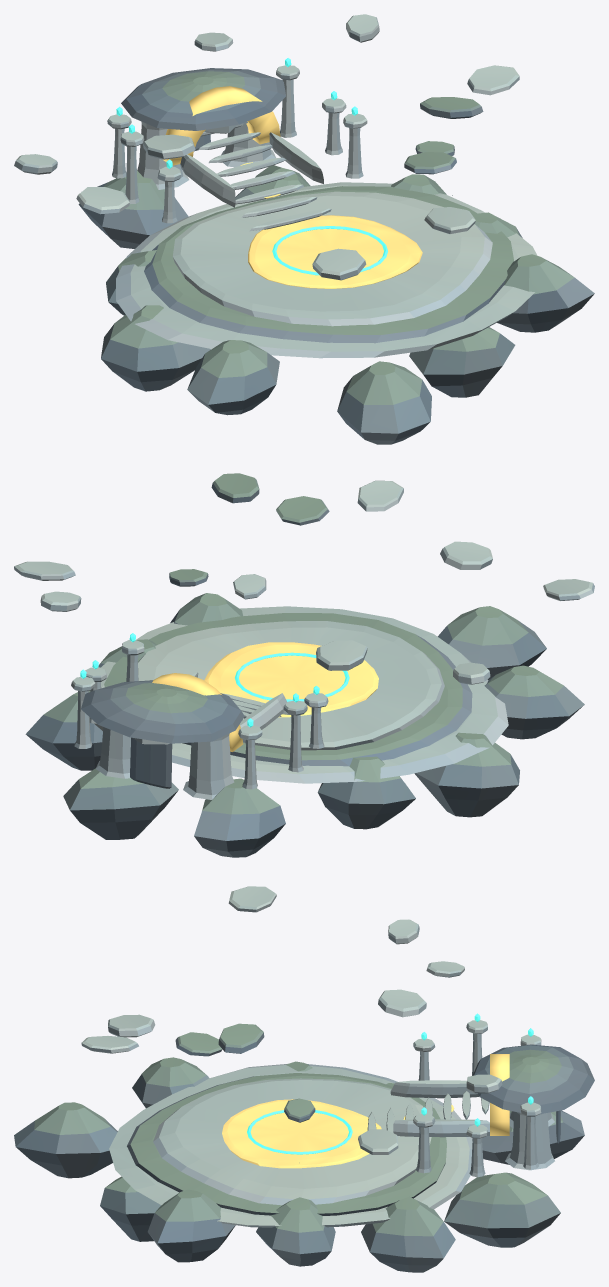
The model's file is cloud-ruins-low.glb.
The picture shows the model from 3 angles, top to bottom: view 1: azimuth 30°, elevation 25°; view 2: azimuth 150°, elevation 25°; view 3: azimuth 270°, elevation 25°; orthographic projection. The views are drawn at different scales.
Parts seen in each view (by area): view 1: CloudTemple, FloatingSlabs, LandingPad, TempleSteps, RunePillars; view 2: CloudTemple, FloatingSlabs, LandingPad, RunePillars, TempleSteps; view 3: CloudTemple, FloatingSlabs, LandingPad, RunePillars, TempleSteps.
Boxes of the visible parts, box(x1,y1,x2,y2) form: CloudTemple: box(78, 68, 594, 444); FloatingSlabs: box(14, 14, 519, 280); LandingPad: box(248, 215, 422, 288); TempleSteps: box(180, 121, 331, 231); RunePillars: box(107, 58, 452, 223); CloudTemple: box(25, 593, 584, 857); FloatingSlabs: box(14, 473, 594, 684); LandingPad: box(204, 642, 378, 717); RunePillars: box(71, 622, 328, 789); TempleSteps: box(191, 672, 290, 741); CloudTemple: box(14, 1044, 594, 1272); FloatingSlabs: box(81, 886, 502, 1154); LandingPad: box(222, 1099, 381, 1168); RunePillars: box(299, 1013, 541, 1177); TempleSteps: box(367, 1080, 489, 1137).
Bounding box in the file's own units: 121 × 58.37 × 131.
